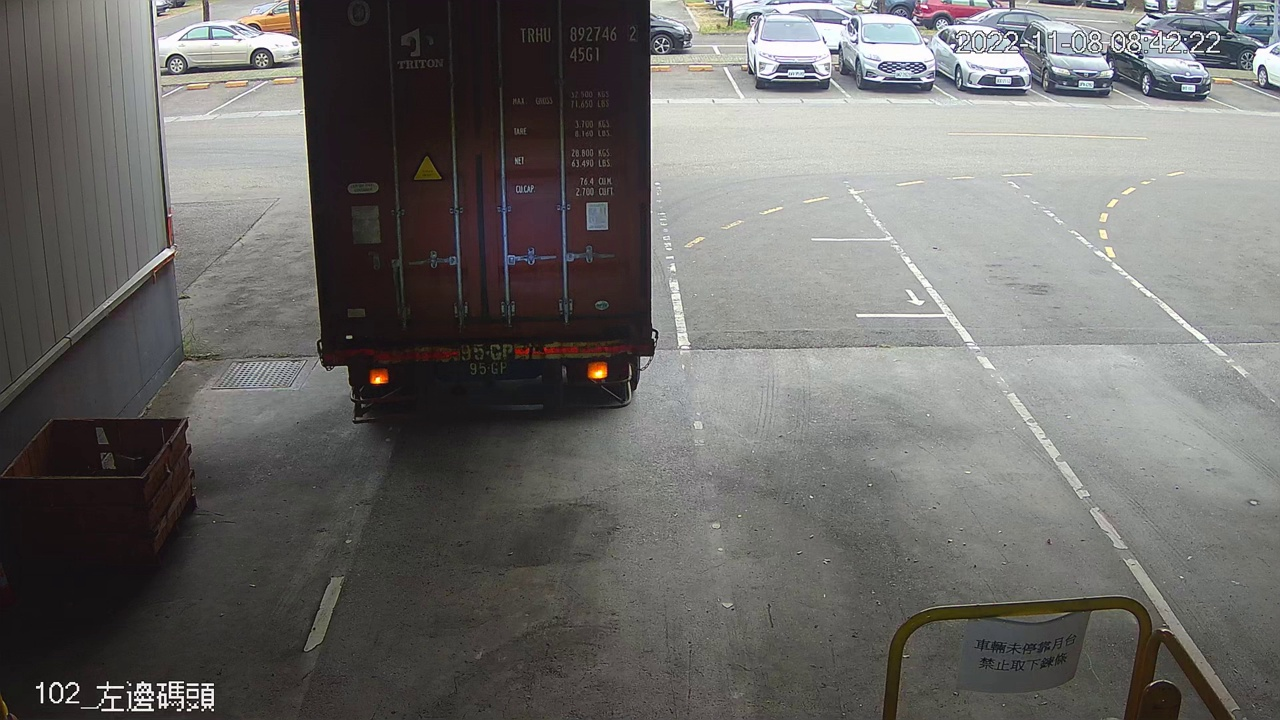container: (511, 18, 644, 68)
